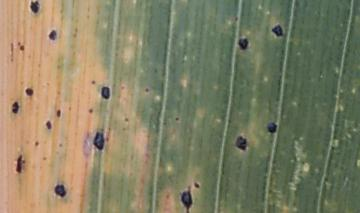tarspot: (182, 190, 193, 213), (93, 130, 105, 151), (233, 135, 248, 150), (53, 183, 67, 198), (271, 23, 285, 38), (15, 154, 24, 173), (29, 1, 41, 15), (100, 85, 111, 99), (266, 122, 277, 134), (238, 38, 248, 50), (48, 29, 57, 41), (12, 101, 19, 114), (24, 87, 34, 96), (45, 119, 52, 131), (122, 115, 130, 123), (32, 140, 40, 147), (193, 182, 201, 189), (55, 109, 61, 118), (19, 45, 26, 52), (57, 141, 64, 148), (42, 155, 48, 162), (144, 87, 150, 93), (91, 79, 96, 85), (234, 16, 239, 22), (175, 117, 180, 122), (89, 108, 93, 114)
